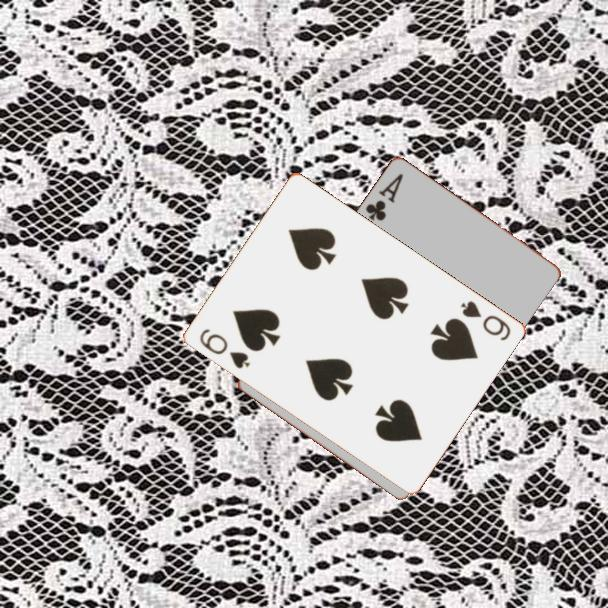c01: (362, 170, 406, 225)
s06: (195, 325, 253, 372), (456, 297, 513, 344)
